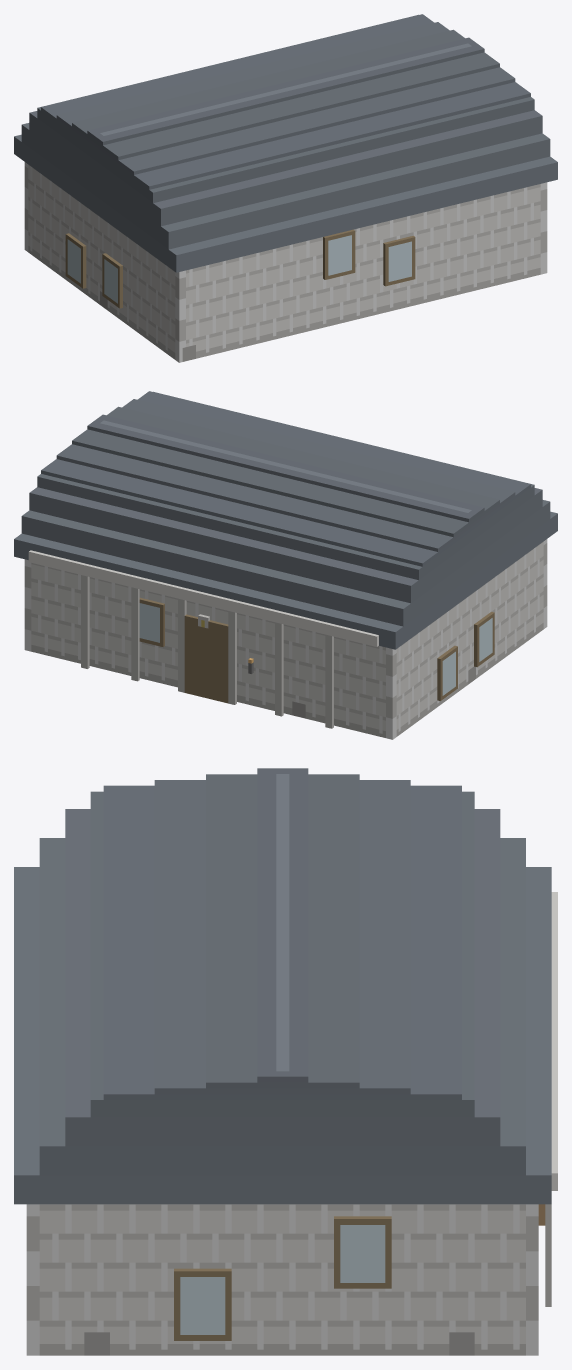
The model's file is banos_publicos_02.glb.
3 views of the same model, one above another, from view 1: azimuth 30°, elevation 25°; view 2: azimuth 150°, elevation 25°; view 3: azimuth 270°, elevation 25° (orthographic). The views are drawn at different scales.
Parts seen in each view (by area): view 1: banos_publicos_02; view 2: banos_publicos_02; view 3: banos_publicos_02.
Part boxes in pixels (bbox=[...]): banos_publicos_02: bbox=[14, 14, 557, 362]; banos_publicos_02: bbox=[14, 391, 557, 739]; banos_publicos_02: bbox=[14, 768, 557, 1355].
Bounding box in the file's own units: 11.4 × 4.9 × 8.5.
